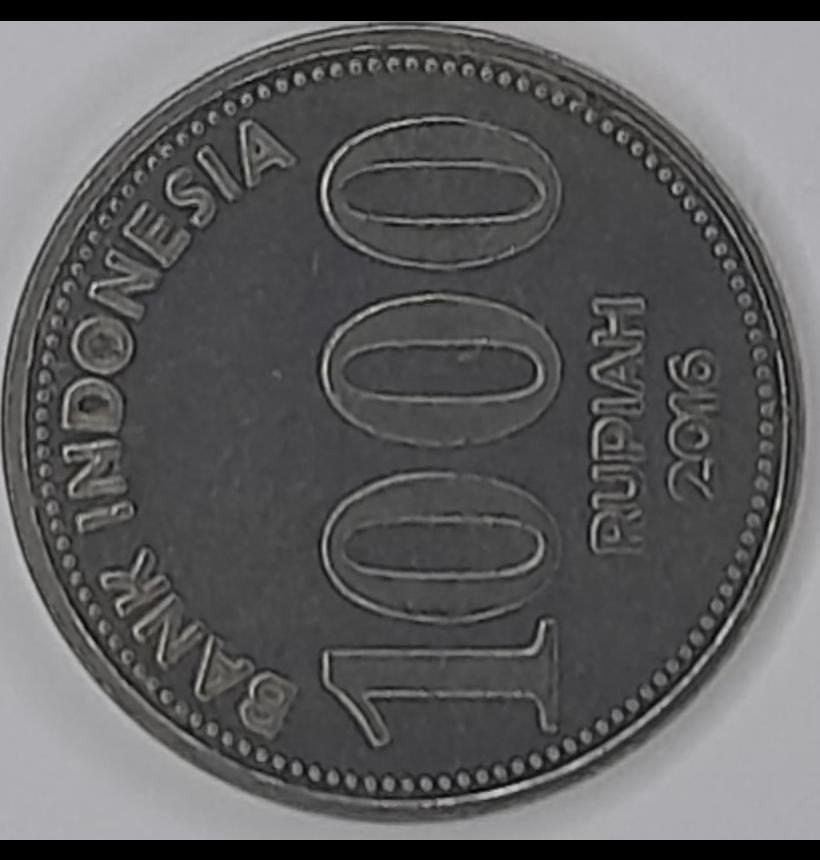coin_1000_e2016: (14, 17, 809, 860)
